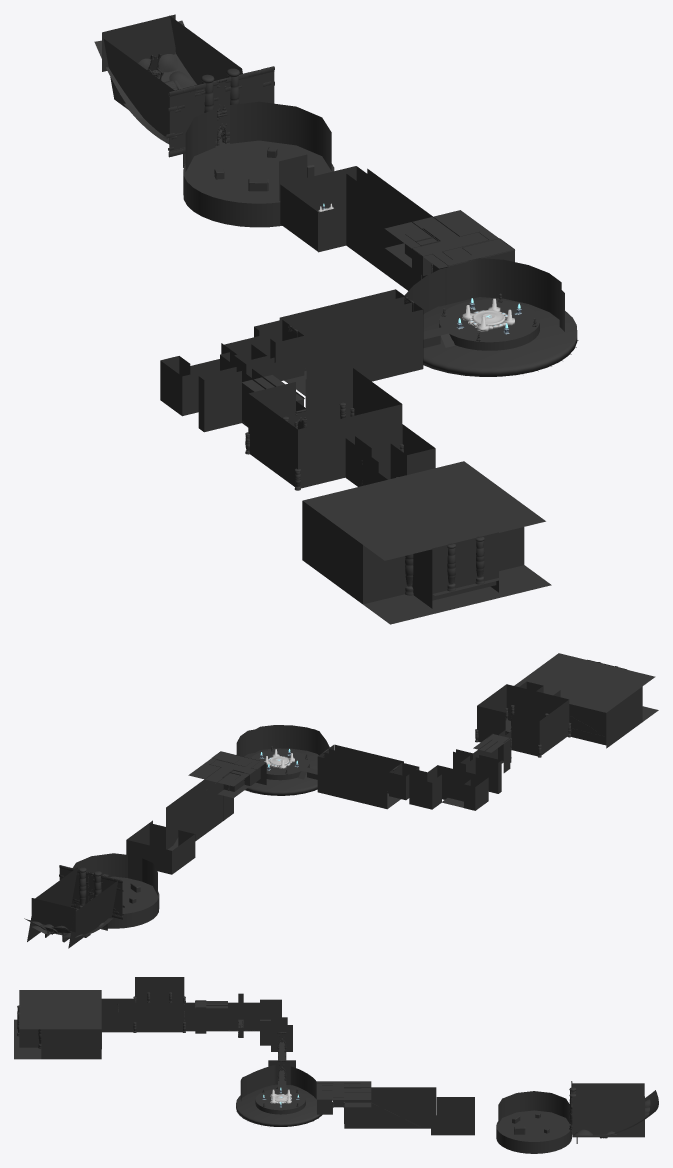
The model's file is Server.FBX.
3 views of the same model, one above another, from view 1: azimuth 30°, elevation 25°; view 2: azimuth 150°, elevation 25°; view 3: azimuth 270°, elevation 25° (orthographic). The views are drawn at different scales.
Visible parts, largest first — view 1: SM_Floor_Ceiling82, SM_Boss_Room_Floor2, SM_Wall_Tall511, SM_Ceiling_Round2, SM_Wall200, SM_Floor_Ceiling834, SM_Wall_Tall88, SM_Env_Wall_Alcove_Round_01_Texture5, SM_Wall_Tall103, SM_Env_Wall_Alcove_Round_01_Texture2, SM_Floor_Ceiling81, SM_Boss_Room_Floor1 (+26 smaller); view 2: SM_Floor_Ceiling82, SM_Wall_Tall488, SM_Wall200, SM_Boss_Room_Floor2, SM_Floor_Ceiling834, SM_Env_Wall_Alcove_Round_01_Texture3, SM_Wall_Tall88, SM_Wall_Tall537, SM_Ceiling_Round2, SM_Wall_Tall103, SM_Wall_Tall262, SM_Wall_Tall562 (+17 smaller); view 3: SM_Floor_Ceiling82, SM_Wall201, SM_Wall_Tall564, SM_Boss_Room_Floor2, SM_Wall_Tall104, SM_Ceiling_Round2, SM_Wall_Tall272, SM_Env_Wall_Alcove_Round_01_Texture6, SM_Wall_Tall262, SM_Floor_Ceiling834, SM_Wall_Tall537, SM_Wall_Tall599 (+16 smaller).
Part boxes in pixels (x1,y1,x2,y2): SM_Floor_Ceiling82: [303, 461, 545, 560]; SM_Boss_Room_Floor2: [183, 140, 334, 227]; SM_Wall_Tall511: [306, 309, 422, 381]; SM_Ceiling_Round2: [423, 297, 578, 376]; SM_Wall200: [346, 174, 437, 290]; SM_Floor_Ceiling834: [384, 210, 514, 268]; SM_Wall_Tall88: [298, 404, 402, 488]; SM_Env_Wall_Alcove_Round_01_Texture5: [230, 101, 331, 170]; SM_Wall_Tall103: [302, 501, 362, 604]; SM_Env_Wall_Alcove_Round_01_Texture2: [467, 258, 561, 319]; SM_Floor_Ceiling81: [363, 565, 551, 624]; SM_Boss_Room_Floor1: [439, 299, 539, 350]; SM_Floor_Ceiling82: [514, 653, 655, 712]; SM_Wall_Tall488: [317, 756, 387, 808]; SM_Wall200: [178, 770, 233, 841]; SM_Boss_Room_Floor2: [107, 876, 159, 928]; SM_Floor_Ceiling834: [188, 751, 266, 786]; SM_Env_Wall_Alcove_Round_01_Texture3: [255, 725, 320, 753]; SM_Wall_Tall88: [506, 684, 568, 720]; SM_Wall_Tall537: [68, 881, 117, 948]; SM_Ceiling_Round2: [244, 748, 318, 795]; SM_Wall_Tall103: [606, 686, 642, 748]; SM_Wall_Tall262: [539, 700, 569, 755]; SM_Wall_Tall562: [31, 898, 75, 932]; SM_Floor_Ceiling82: [19, 990, 101, 1029]; SM_Wall201: [344, 1092, 436, 1128]; SM_Wall_Tall564: [572, 1096, 644, 1137]; SM_Boss_Room_Floor2: [496, 1110, 571, 1153]; SM_Wall_Tall104: [41, 1029, 101, 1059]; SM_Ceiling_Round2: [236, 1084, 322, 1126]; SM_Wall_Tall272: [135, 1002, 184, 1032]; SM_Env_Wall_Alcove_Round_01_Texture6: [498, 1091, 569, 1123]; SM_Wall_Tall262: [135, 977, 184, 1002]; SM_Floor_Ceiling834: [316, 1081, 371, 1099]; SM_Wall_Tall537: [572, 1083, 644, 1096]; SM_Wall_Tall599: [431, 1115, 474, 1135].
Size of the model in its own units: 23903 by 58753 by 7338.
